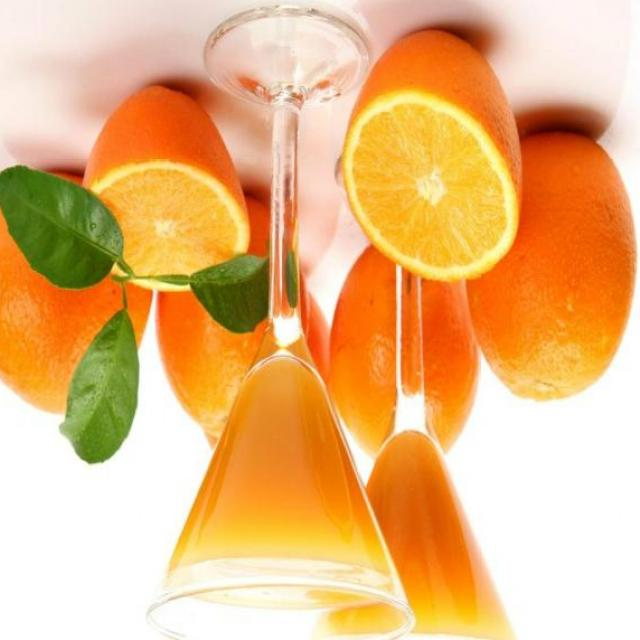orange: (460, 115, 640, 412), (328, 220, 504, 474), (0, 154, 151, 436), (146, 204, 310, 436)
